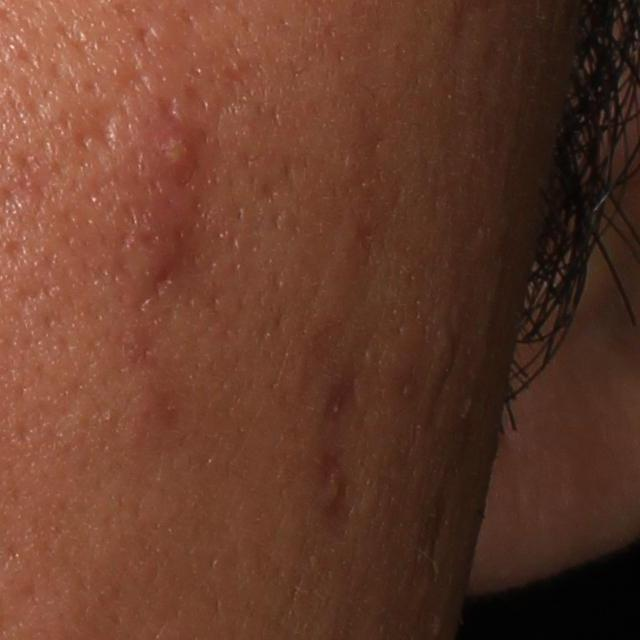atrophic_scar: (69, 88, 129, 154), (314, 448, 354, 526)
papule: (117, 221, 194, 300), (142, 119, 202, 180)
